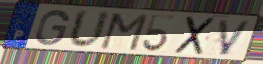5: (141, 13, 181, 54)
G: (33, 9, 71, 47)
M: (97, 12, 151, 53)
U: (67, 8, 113, 50)
V: (218, 18, 254, 57)
X: (171, 15, 217, 57)
